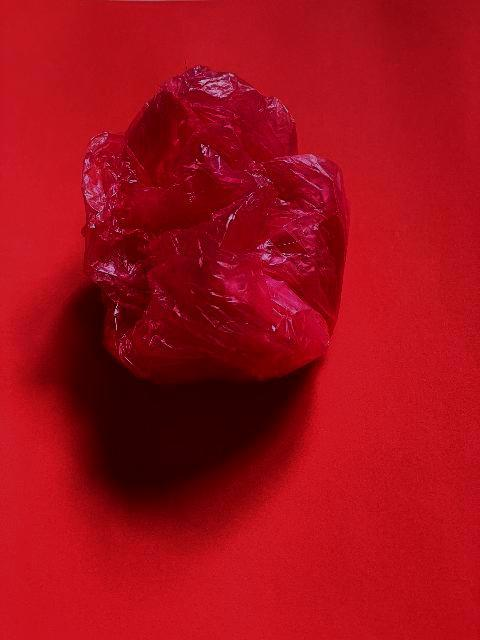plasticbag: (79, 61, 354, 387)
